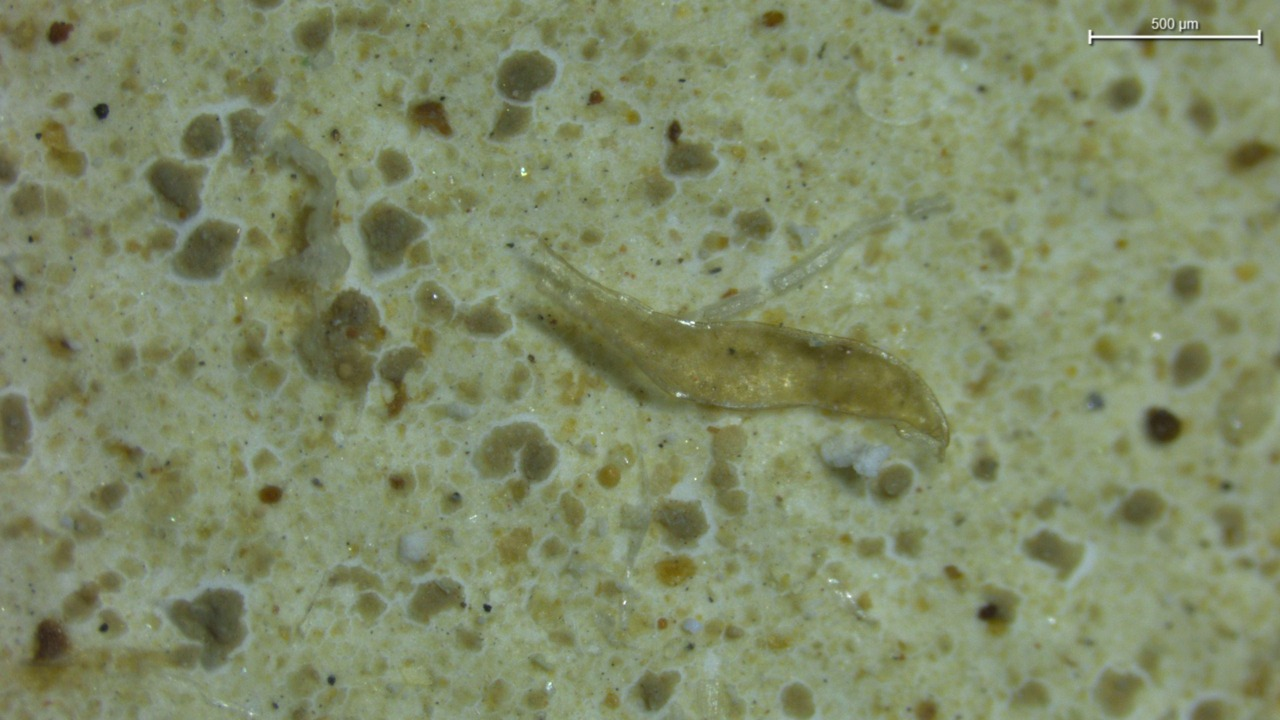microplastic_fragment: (532, 250, 949, 451), (821, 435, 891, 478), (399, 532, 429, 563)
